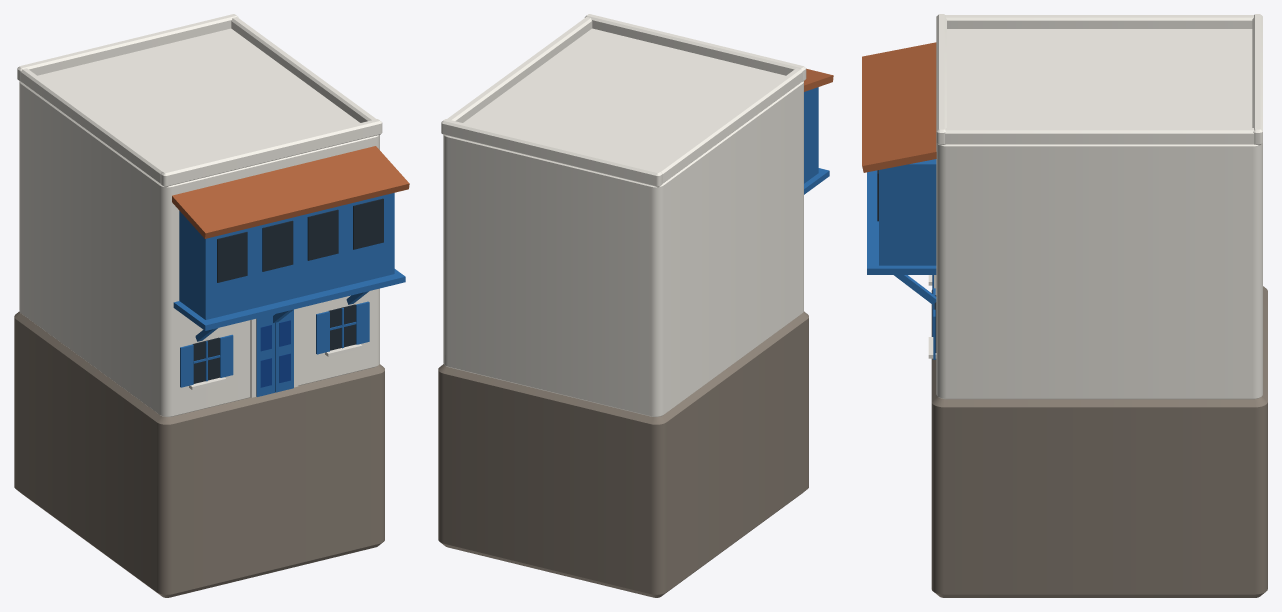
The model's file is sea-blue.glb.
3 views of the same model, side by side, from view 1: azimuth 30°, elevation 25°; view 2: azimuth 150°, elevation 25°; view 3: azimuth 270°, elevation 25° (orthographic). The views are drawn at different scales.
Parts seen in each view (by area): view 1: white1, stone0, paint28, tile34, white2, white3, paint33, white4, white5, pane30, pane31, pane32 (+10 smaller); view 2: white1, stone0, white3, white2, white4, white5, paint28; view 3: white1, stone0, tile34, paint28, white5, white4, paint33, white2, white3.
Boxes of the visible parts, x1,y1,x2,y2 form: white1: [19, 28, 379, 416]; stone0: [14, 311, 384, 597]; paint28: [179, 193, 394, 319]; tile34: [172, 146, 409, 238]; white2: [160, 119, 382, 187]; white3: [17, 14, 238, 81]; paint33: [173, 269, 405, 330]; white4: [20, 68, 166, 183]; white5: [231, 17, 376, 122]; pane30: [262, 220, 293, 271]; pane31: [307, 209, 338, 260]; pane32: [353, 198, 383, 249]; white1: [443, 28, 803, 416]; stone0: [438, 311, 808, 597]; white3: [441, 119, 662, 187]; white2: [584, 14, 806, 81]; white4: [657, 68, 803, 183]; white5: [447, 17, 592, 122]; paint28: [804, 87, 818, 183]; white1: [936, 29, 1262, 399]; stone0: [931, 286, 1267, 597]; tile34: [862, 42, 936, 172]; paint28: [879, 159, 936, 265]; white5: [945, 128, 1254, 144]; white4: [945, 15, 1253, 28]; paint33: [867, 170, 936, 274]; white2: [936, 14, 946, 145]; white3: [1252, 14, 1262, 145].
Size of the model in its own units: 6 by 10.76 by 8.45.
